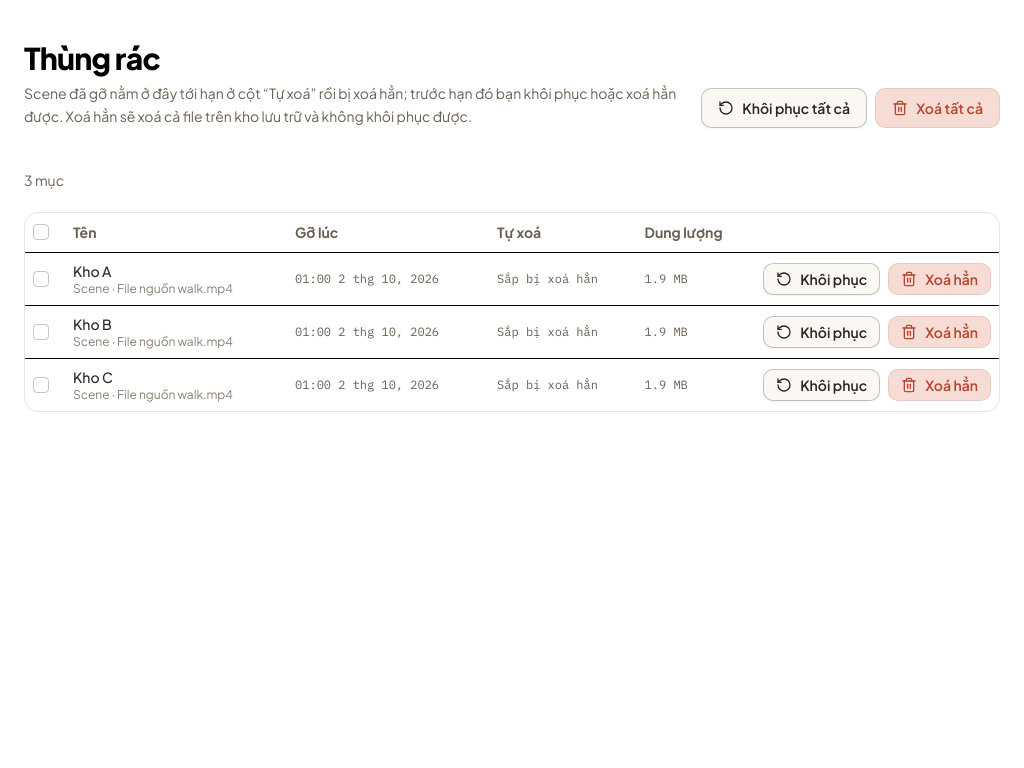
Test case: TrashPage › chọn nhiều mục rồi xoá hẳn: phải xác nhận, huỷ thì không gửi gì
This screenshot has width=1024, height=768.
Click the checkbox named "Chọn Kho A" at x=41, y=279, box [33,271,49,287]
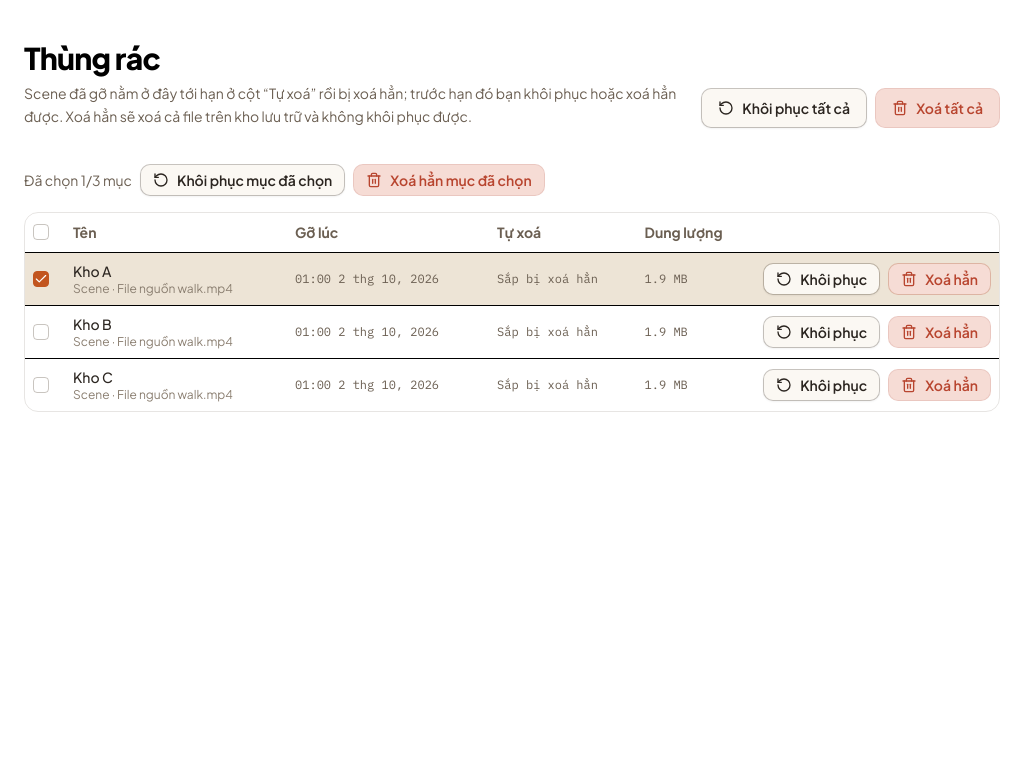
Click the checkbox named "Chọn Kho C" at x=41, y=385, box [33,377,49,393]
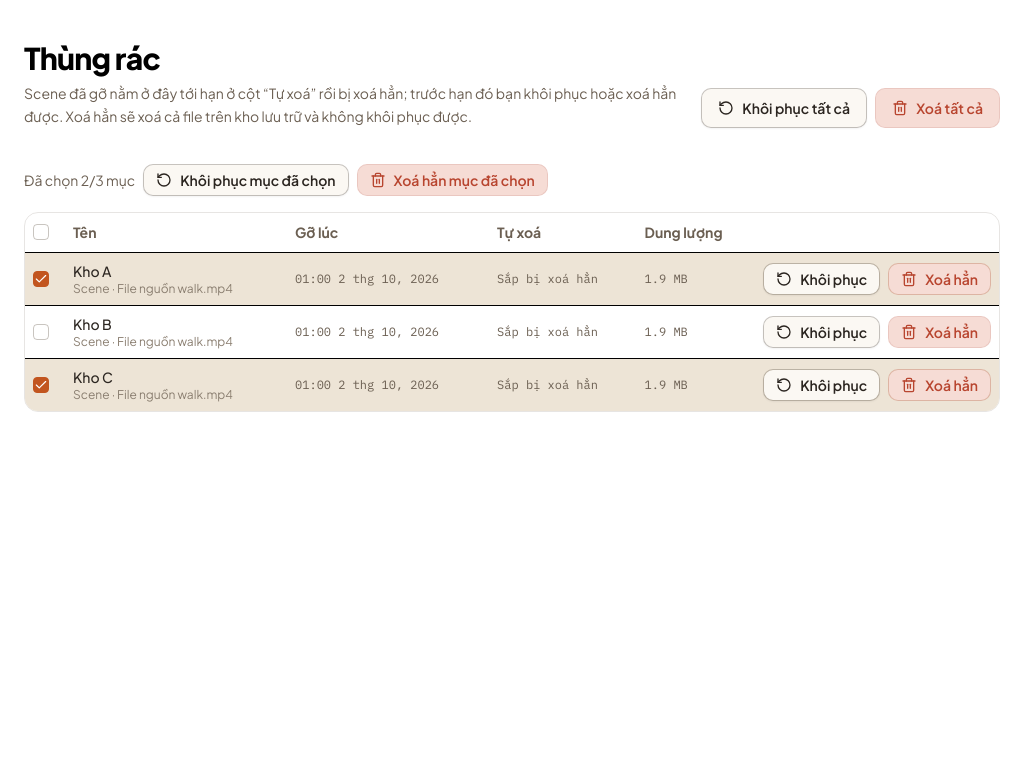
Now the text "Đã chọn 2/3 mục" is shown, box [24,170,135,190]
Click the button "Xoá hẳn mục đã chọn" at x=452, y=180, box [356,164,548,196]
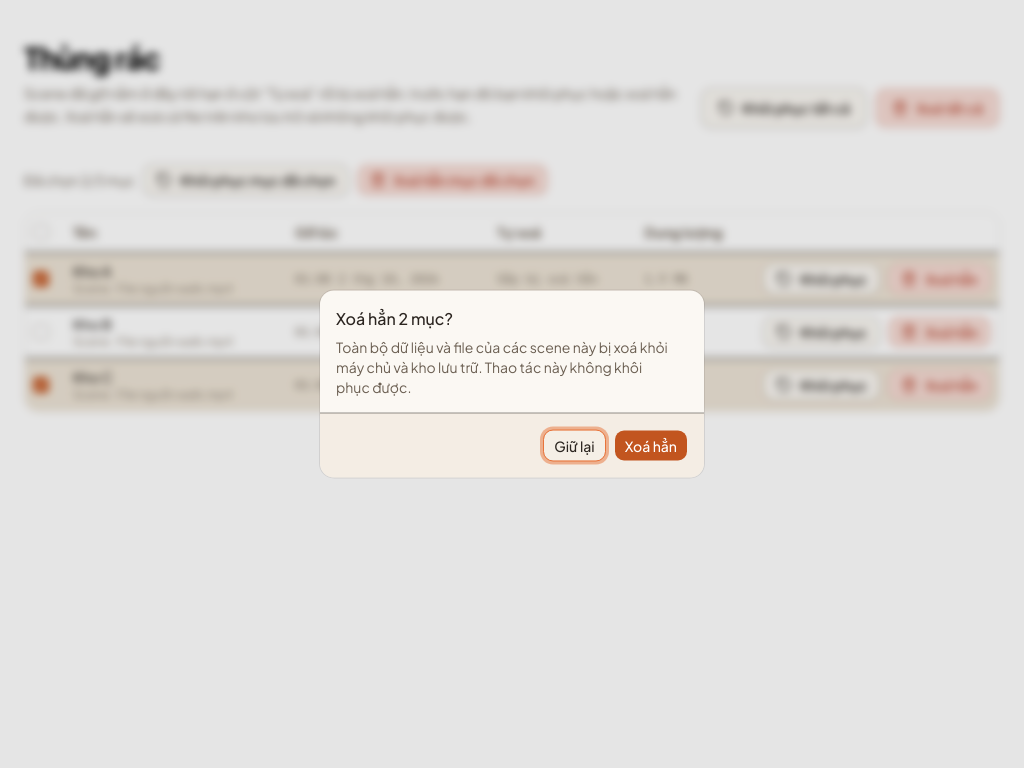
Now the heading "Xoá hẳn 2 mục?" is shown, box [336,306,453,330]
Now the text "không khôi phục được" is shown, box [336,338,668,396]
Click the button "Giữ lại" at x=574, y=446, box [543,430,606,462]
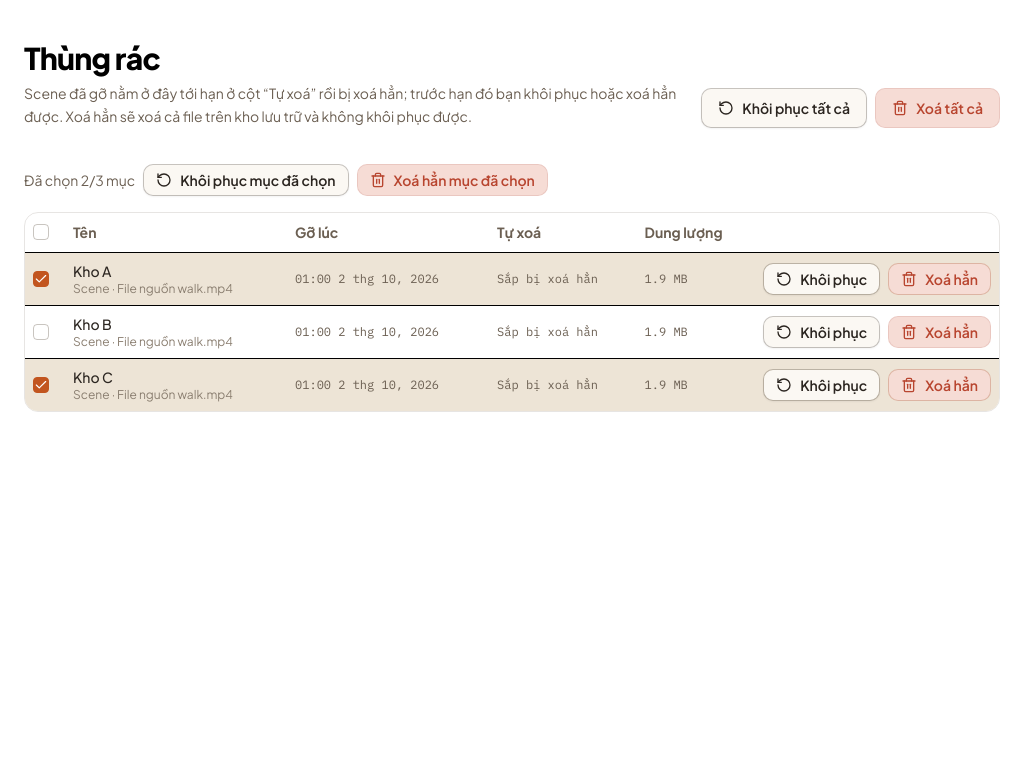
Now the dialog is gone
Click the button "Xoá hẳn mục đã chọn" at x=452, y=180, box [356,164,548,196]
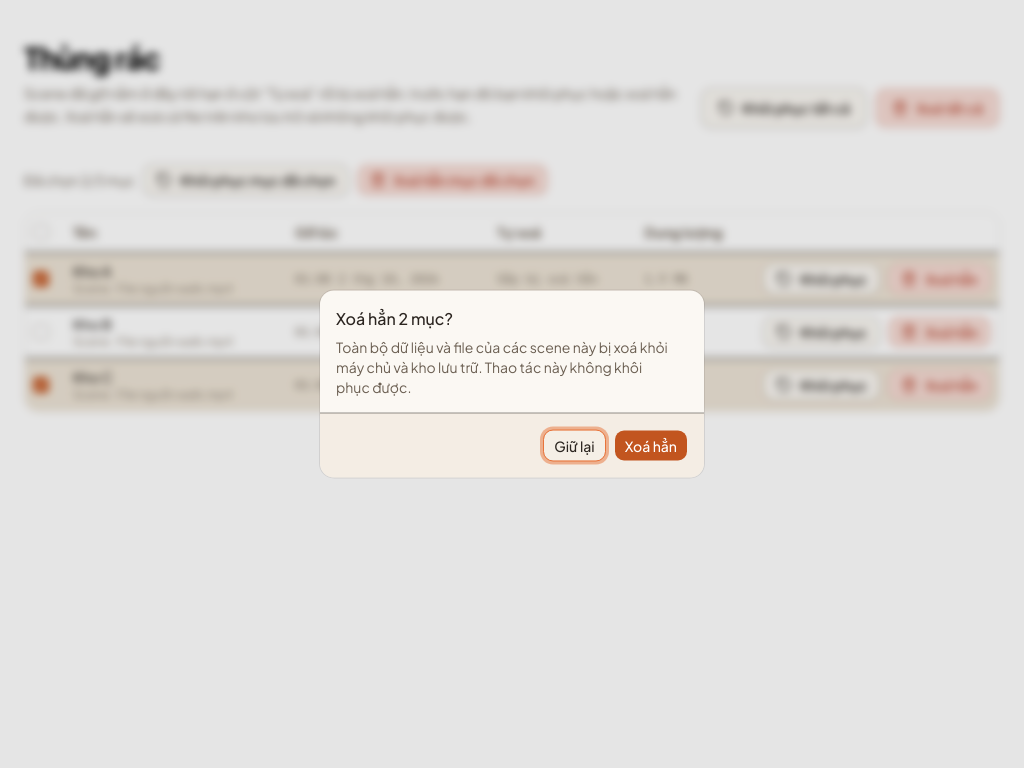
Click the button "Xoá hẳn" at x=651, y=446, box [614,430,688,462]
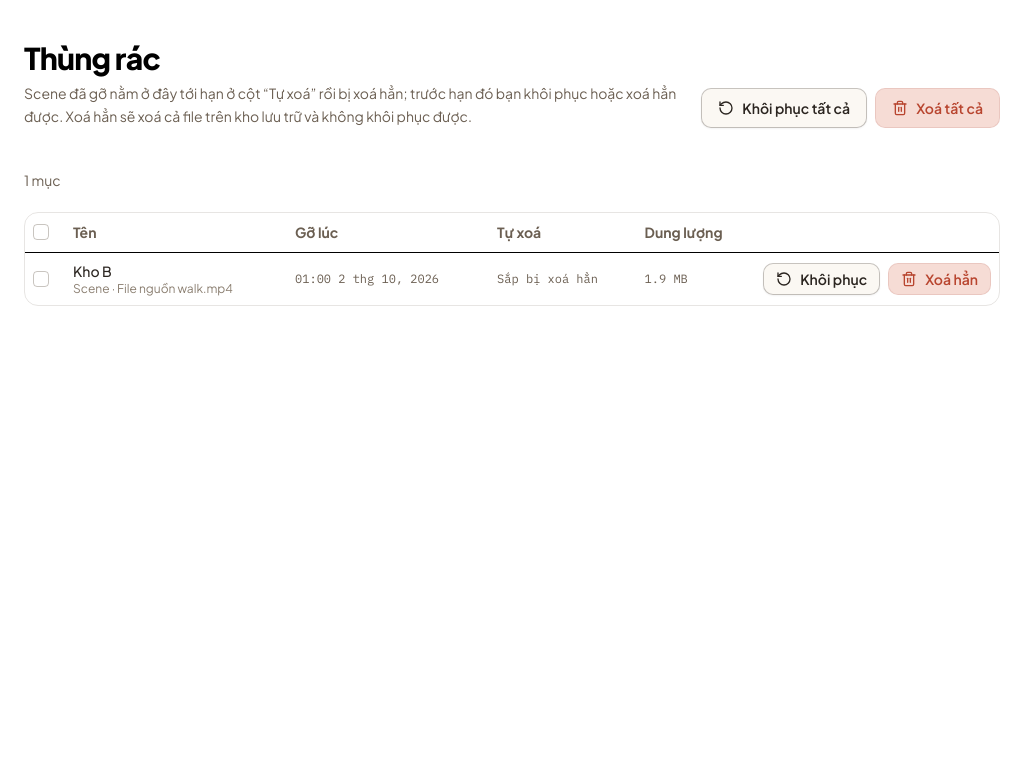
Expected: the text "Kho B" is shown, [73,262,112,280]
Now the text "Kho A" is gone
